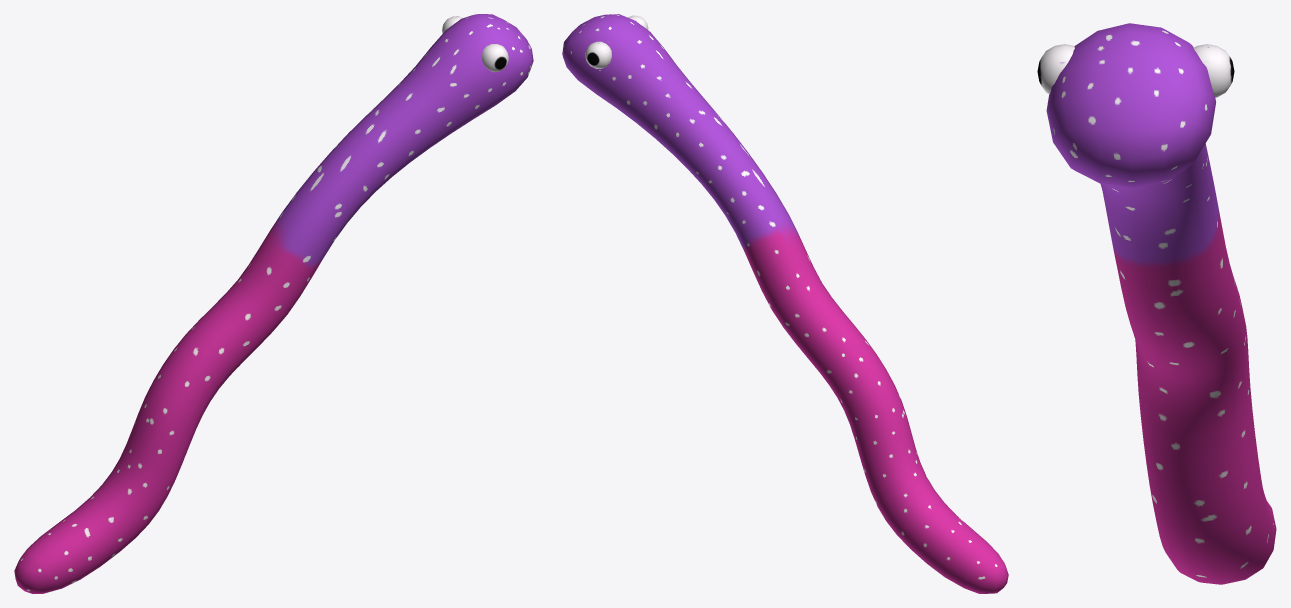
The model's file is GummyWormblend(Textured).fbx.
The picture shows the model from 3 angles, left to right: view 1: azimuth 30°, elevation 25°; view 2: azimuth 150°, elevation 25°; view 3: azimuth 270°, elevation 25°; orthographic projection. The views are drawn at different scales.
Visible parts, largest first — view 1: pCube4; view 2: pCube4; view 3: pCube4.
Boxes of the visible parts, x1=… form: pCube4: x1=14, y1=14, x2=533, y2=593; pCube4: x1=562, y1=14, x2=1008, y2=593; pCube4: x1=1037, y1=23, x2=1276, y2=584.
Bounding box in the file's own units: 1542 × 1476 × 346.
Materials: 1 (1 with a texture image).
